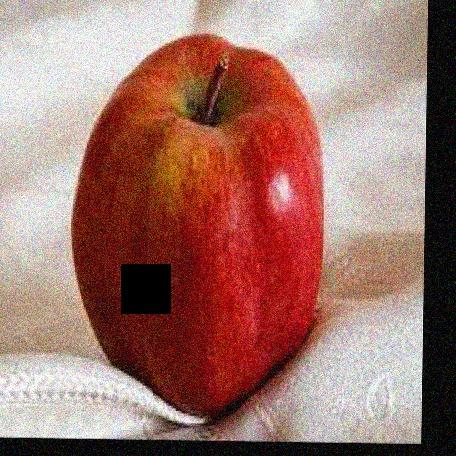red apple: (58, 27, 332, 418)
